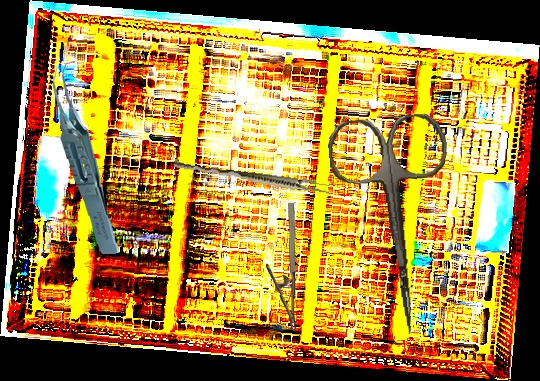Iris Scissors: (325, 111, 467, 341)
Needle Holder: (264, 202, 299, 331)
Tissue Forceps: (52, 61, 120, 256), (172, 159, 331, 195)
